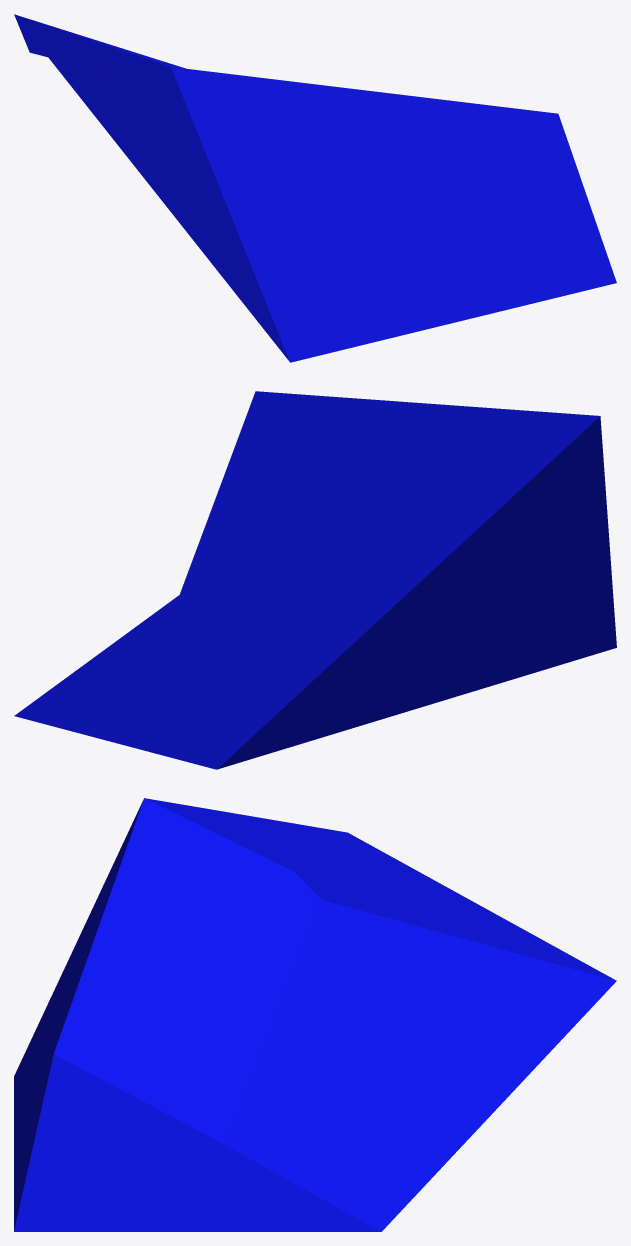
File: blue-box-test.glb
The picture shows the model from 3 angles, top to bottom: view 1: azimuth 30°, elevation 25°; view 2: azimuth 150°, elevation 25°; view 3: azimuth 270°, elevation 25°; orthographic projection. The views are drawn at different scales.
Visible parts, largest first — view 1: Cube; view 2: Cube; view 3: Cube.
Boxes of the visible parts, bbox=[...] form: Cube: bbox=[14, 14, 616, 362]; Cube: bbox=[14, 391, 616, 769]; Cube: bbox=[14, 798, 616, 1231].
Size of the model in its own units: 4.86 by 2.9 by 6.26.
